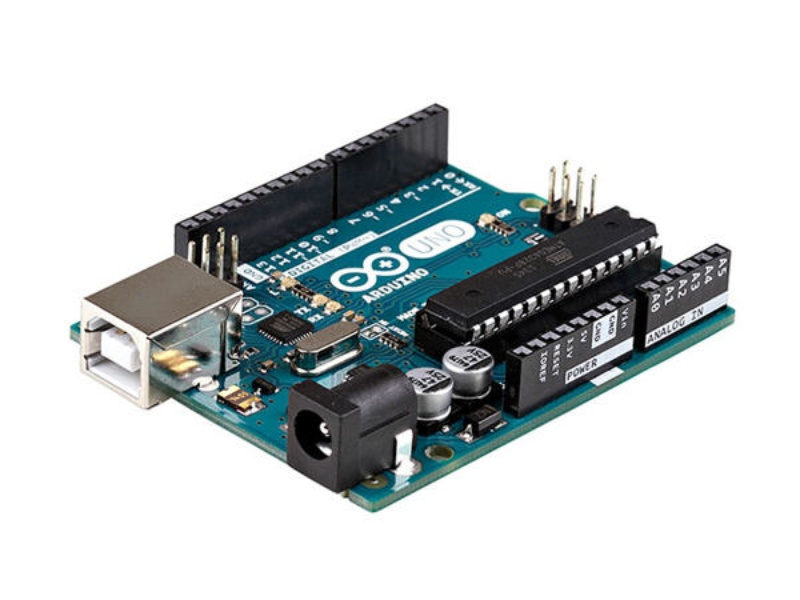uno: (56, 88, 759, 542)
